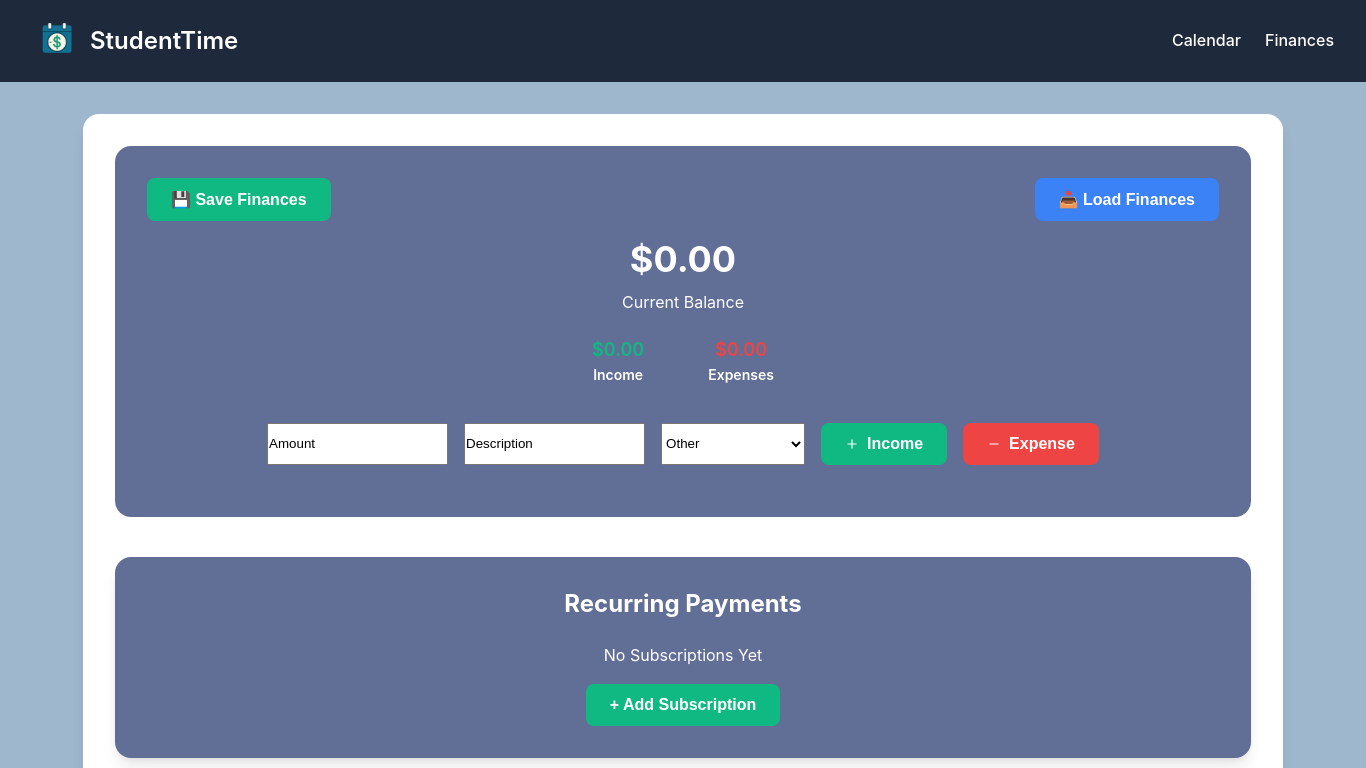
Test case: Finance › renders Finance page and adds a transaction
This screenshot has width=1366, height=768.
# Fill in the form using placeholders
In the field with placeholder "Description": (555, 444) [464,423,645,465], type "Coffee"
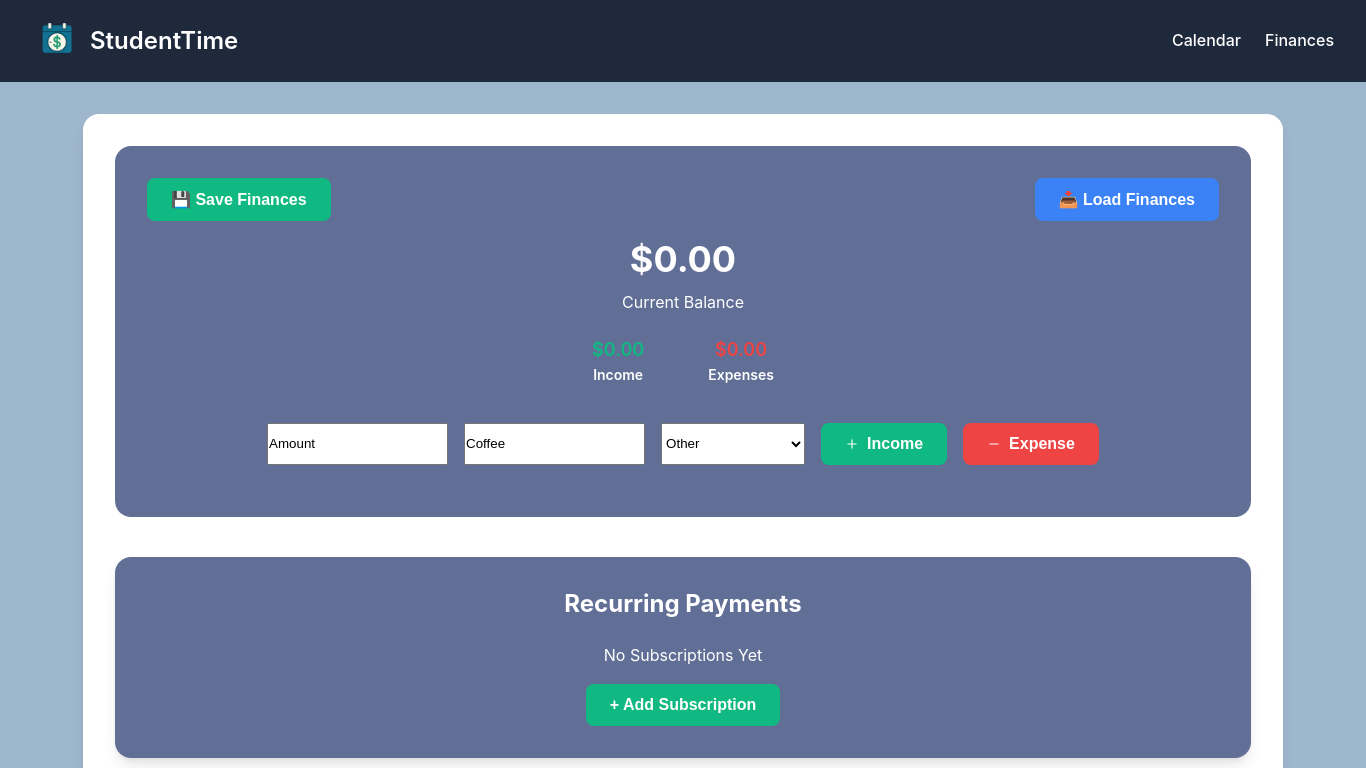
In the number field with placeholder "Amount": (358, 444) [267,423,448,465], type "3.50"
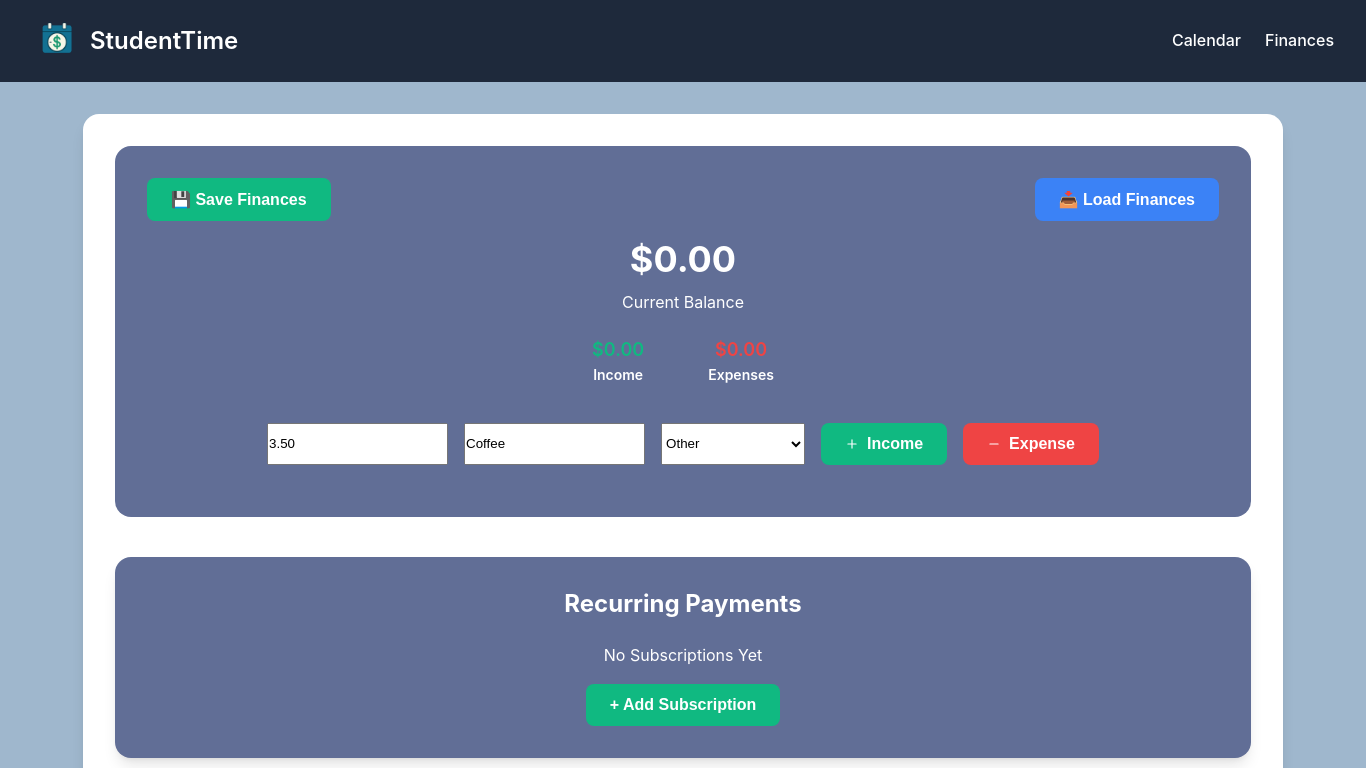
# Try clicking "Expense" button
Click the button "Expense": click(1031, 444) [963,423,1099,465]
(page scrolled)
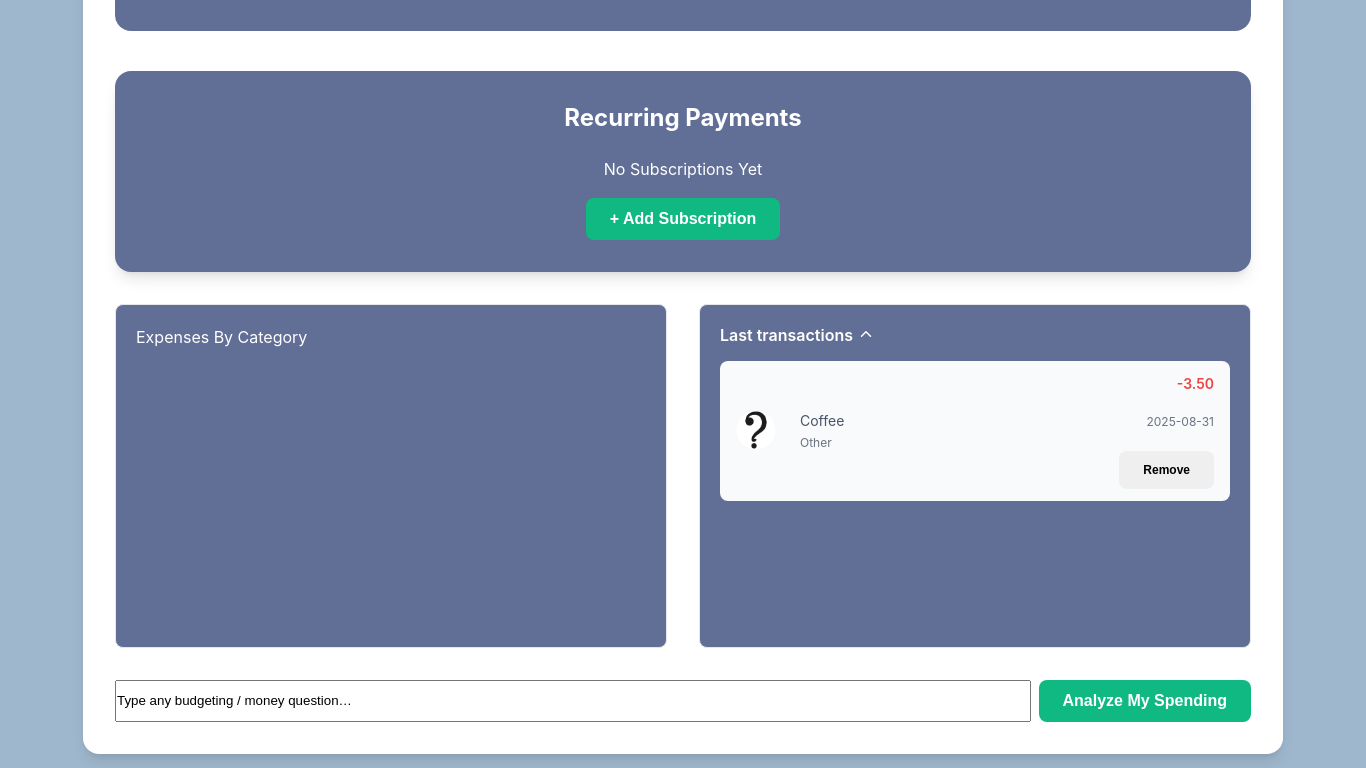
Expected: the text "Coffee" is shown, [800,410,844,433]
Expected: the text "-3.50" is shown, [1177,375,1214,392]
